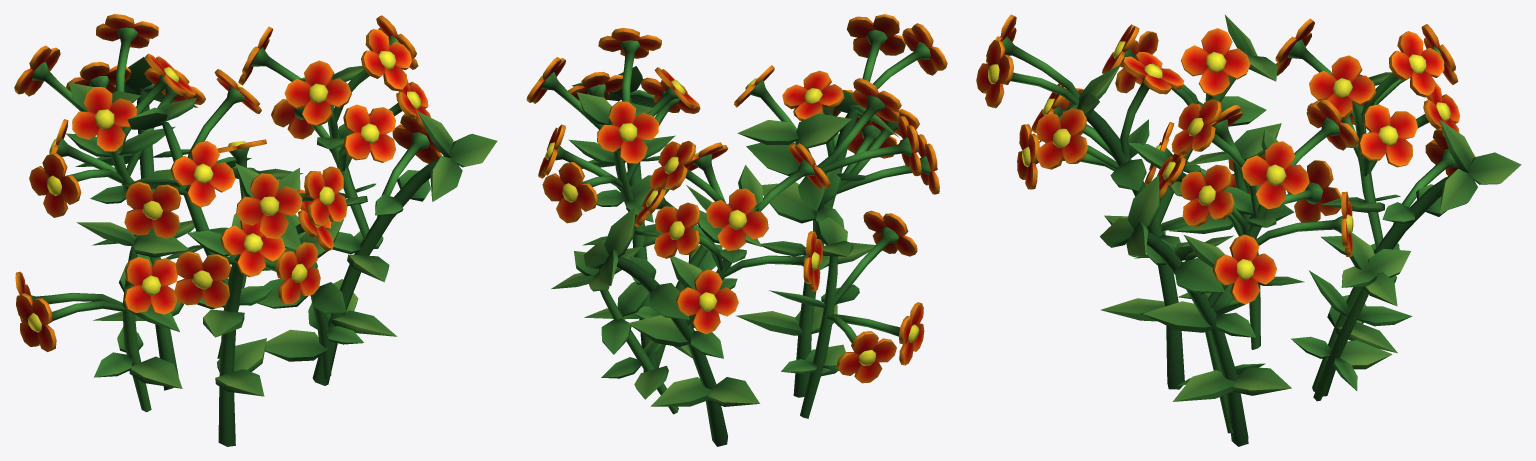
Rendered from SM_Plant_Gaillardia_Lv3.fbx.
The picture shows the model from 3 angles, left to right: view 1: azimuth 30°, elevation 25°; view 2: azimuth 150°, elevation 25°; view 3: azimuth 270°, elevation 25°; orthographic projection. The views are drawn at different scales.
Parts seen in each view (by area): view 1: SM_Plant_Gaillardia_Lv3; view 2: SM_Plant_Gaillardia_Lv3; view 3: SM_Plant_Gaillardia_Lv3.
Part boxes in pixels (x1,y1,x2,y2): SM_Plant_Gaillardia_Lv3: (14,14,497,446); SM_Plant_Gaillardia_Lv3: (526,14,947,446); SM_Plant_Gaillardia_Lv3: (976,14,1521,446).
Bounding box in the file's own units: 54.16 × 45.2 × 60.22.
